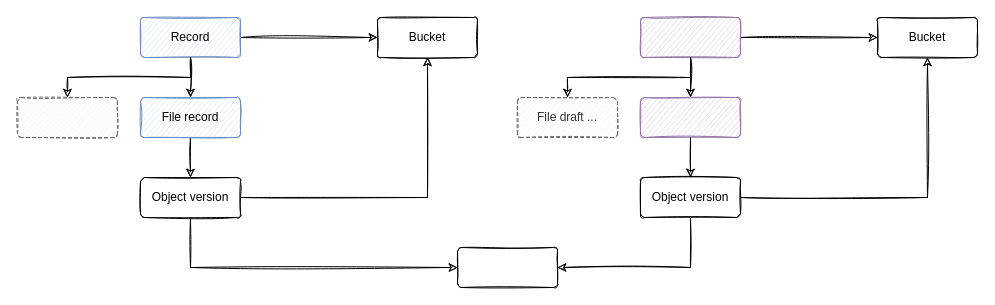
The diagram is 995 pixels wide and 305 high, and some of its shapes have lost their labels. The box of each missing label's shape, as (x1, y1, x2, y2) in pixels:
Draft: (640, 16, 740, 58)
File draft: (640, 96, 740, 138)
File instance: (456, 246, 558, 288)
File record ...: (16, 96, 118, 138)
